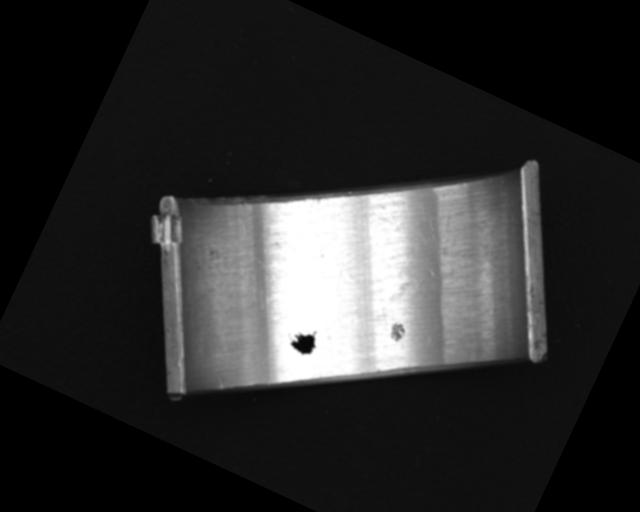blot: (281, 320, 322, 358)
bruise: (384, 318, 409, 345)
nick: (212, 375, 227, 391)
